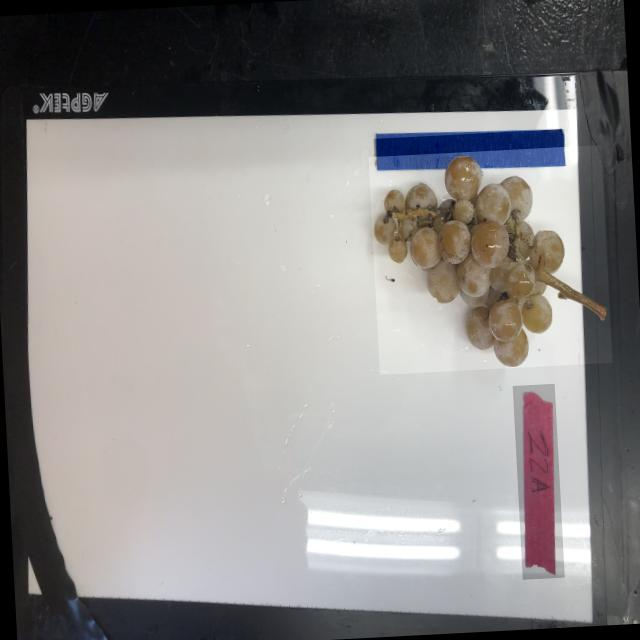grape_cluster: (368, 145, 612, 375)
index: (512, 384, 564, 580)
measure_label: (372, 129, 566, 174)
